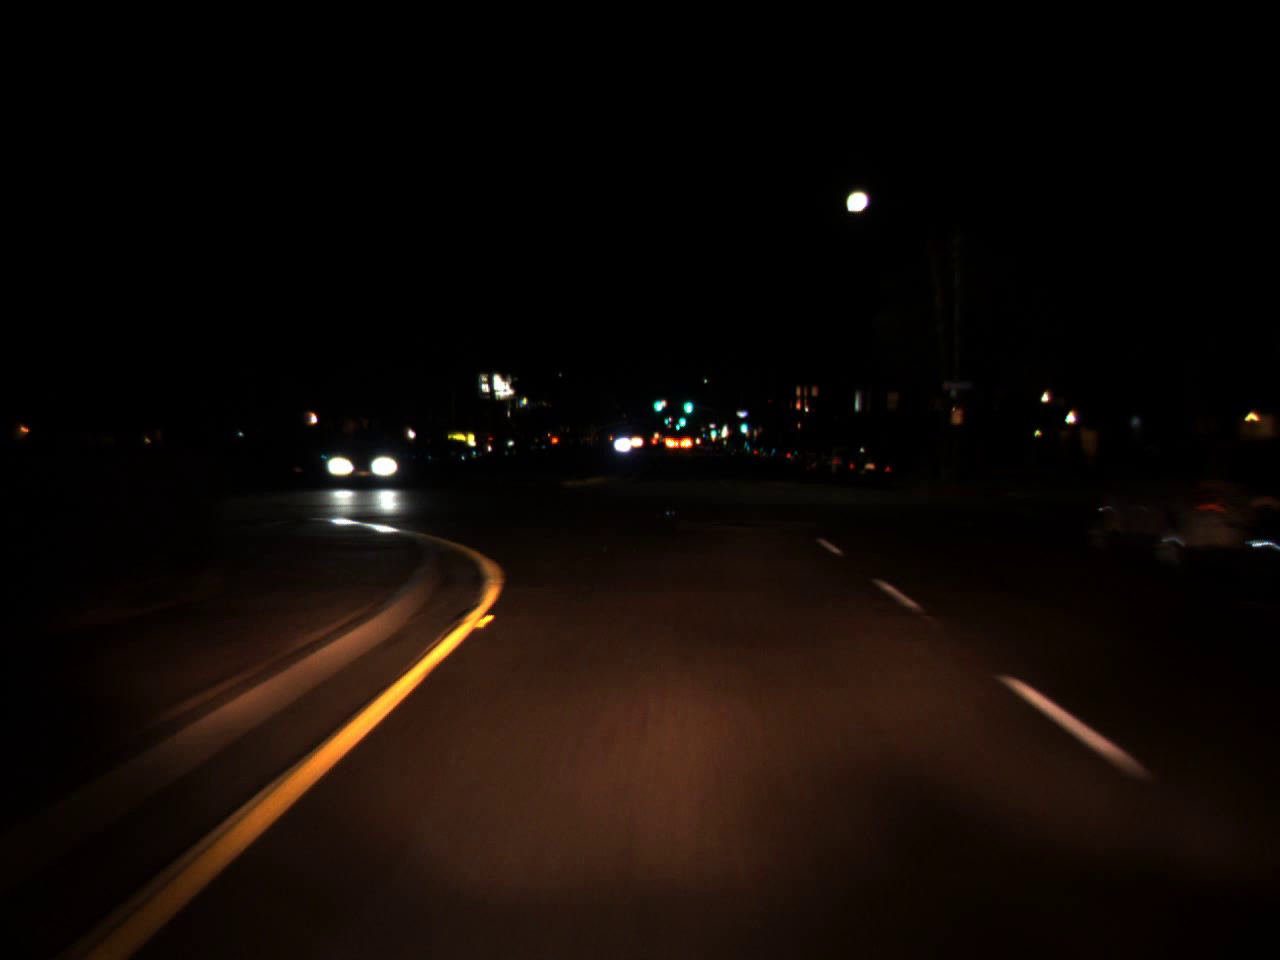go: (680, 388, 694, 418), (652, 388, 661, 415), (673, 408, 685, 429), (738, 413, 747, 434), (672, 415, 681, 433), (710, 423, 717, 438)
